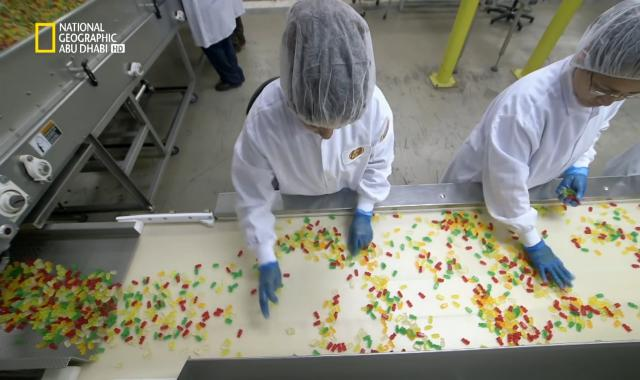hairnet: (282, 2, 378, 140), (570, 2, 640, 81)
